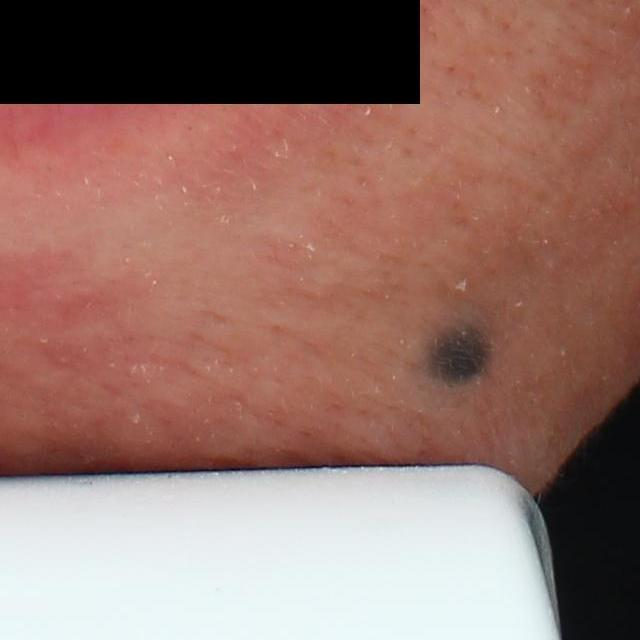nevus: (410, 316, 503, 391)
